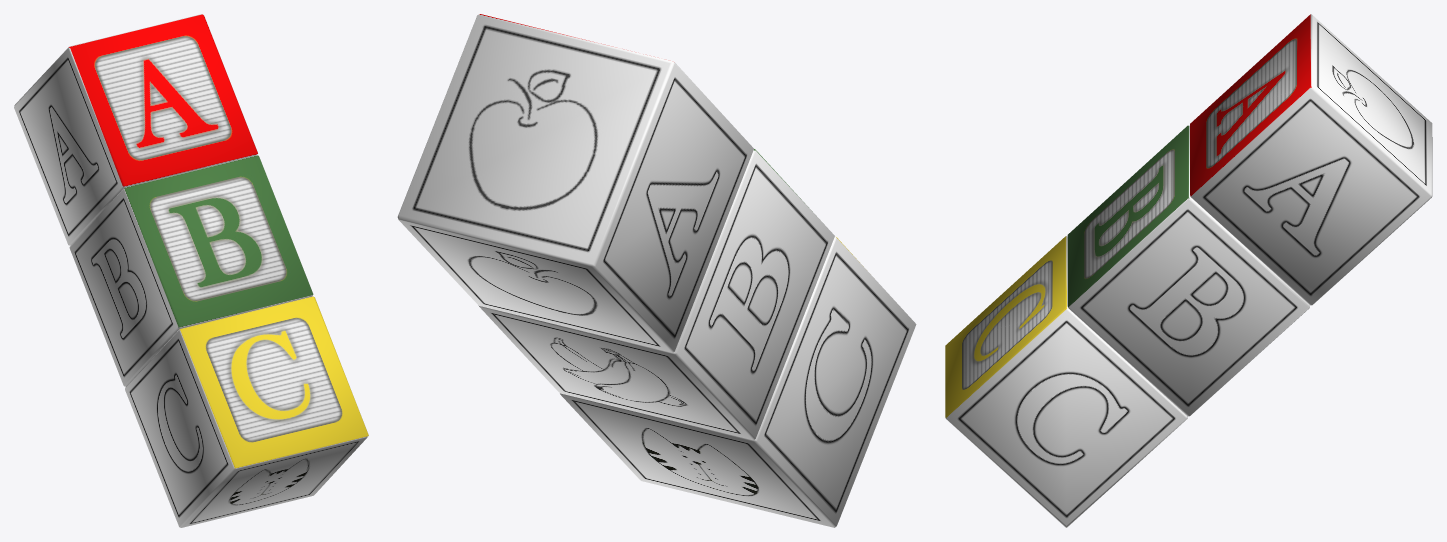
The model's file is text-edited.obj.
3 views of the same model, side by side, from view 1: azimuth 30°, elevation 25°; view 2: azimuth 150°, elevation 25°; view 3: azimuth 270°, elevation 25° (orthographic). The views are drawn at different scales.
Visible parts, largest first — view 1: 10576_Alphabet_Blocks_1, 10576_Alphabet_Blocks_3, 10576_Alphabet_Blocks_2; view 2: 10576_Alphabet_Blocks_3, 10576_Alphabet_Blocks_1, 10576_Alphabet_Blocks_2; view 3: 10576_Alphabet_Blocks_3, 10576_Alphabet_Blocks_2, 10576_Alphabet_Blocks_1.
Boxes of the visible parts, x1,y1,x2,y2 form: 10576_Alphabet_Blocks_1: (125, 296, 368, 527); 10576_Alphabet_Blocks_3: (14, 14, 257, 245); 10576_Alphabet_Blocks_2: (69, 155, 313, 386); 10576_Alphabet_Blocks_3: (397, 14, 753, 352); 10576_Alphabet_Blocks_1: (560, 236, 916, 527); 10576_Alphabet_Blocks_2: (478, 149, 834, 440); 10576_Alphabet_Blocks_3: (1190, 14, 1432, 305); 10576_Alphabet_Blocks_2: (1067, 125, 1309, 416); 10576_Alphabet_Blocks_1: (945, 236, 1187, 527).
Bounding box in the file's own units: 0.128 × 0.3603 × 0.3604.
Materials: 1 (1 with a texture image).
